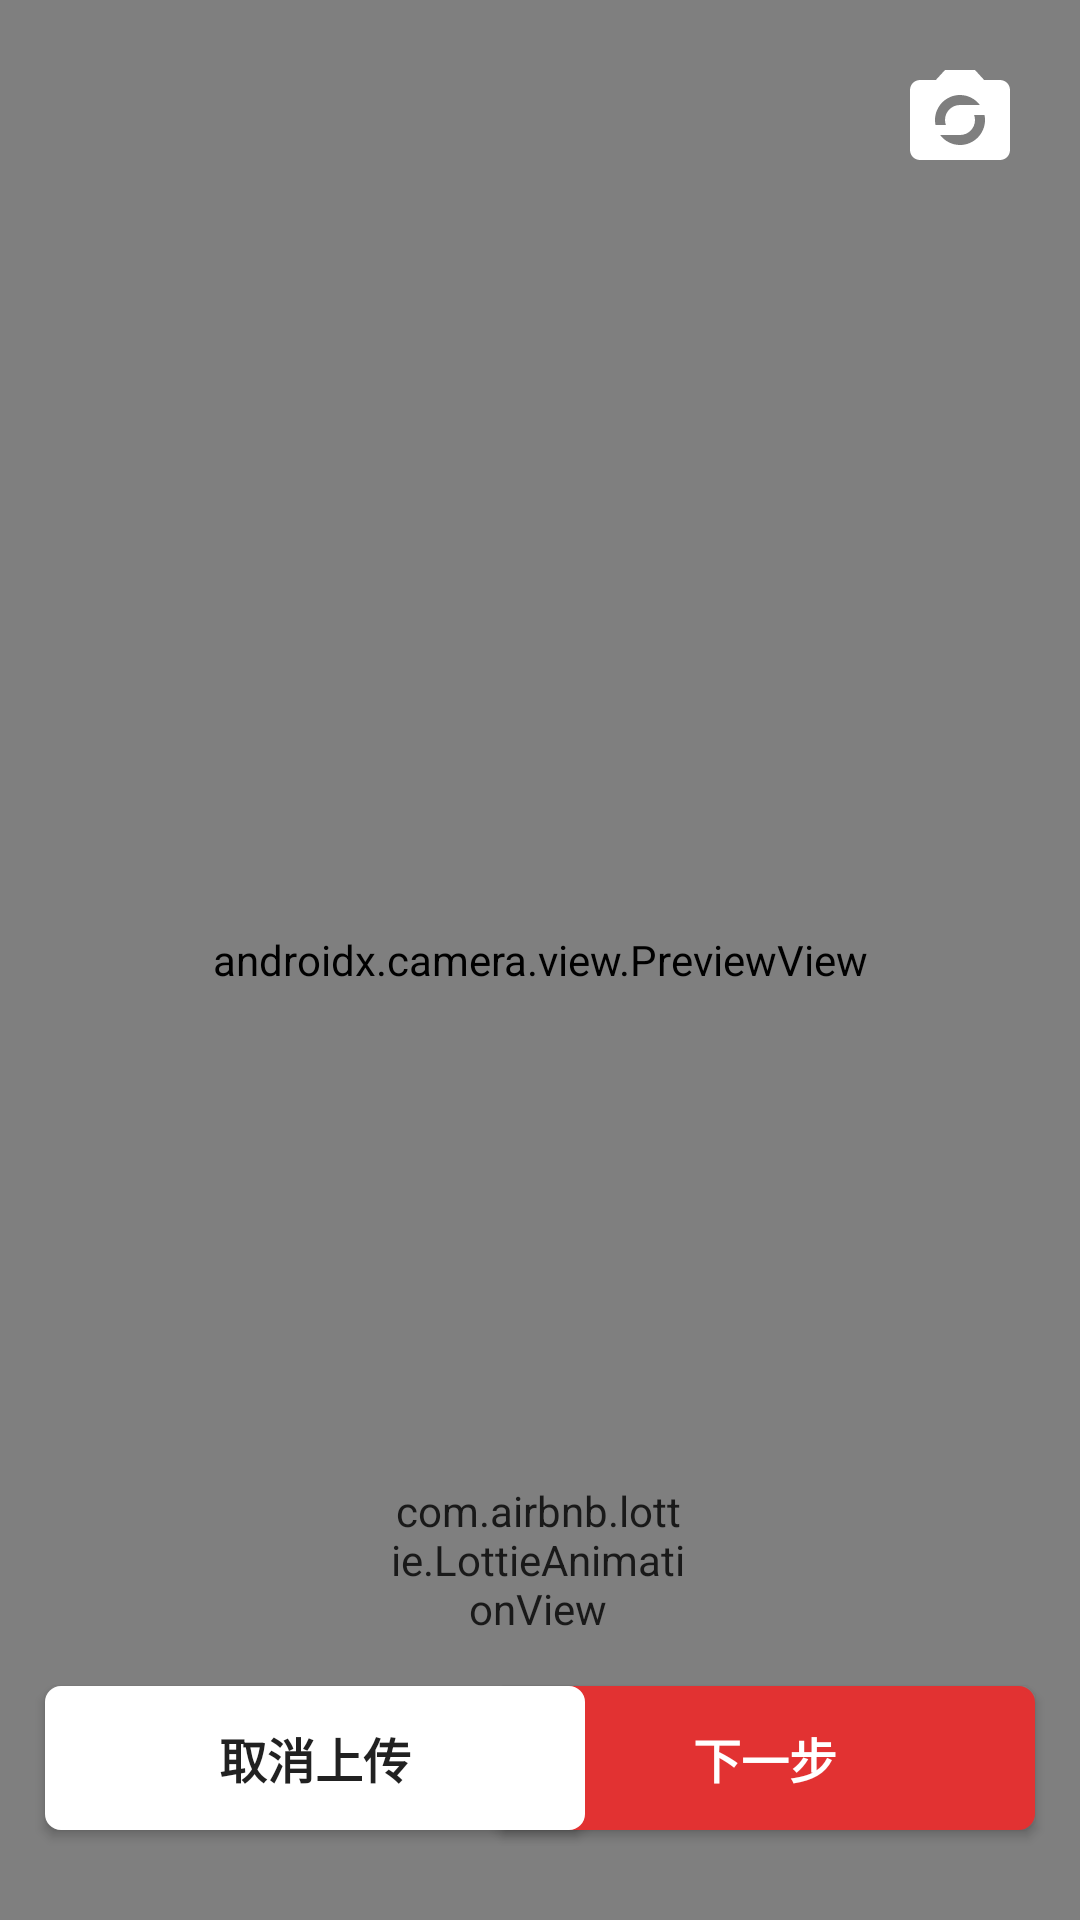

Screen size 1080 x 1920. Icon name, then its center in pixels as point (x, y):
change camera: point (960, 115)
